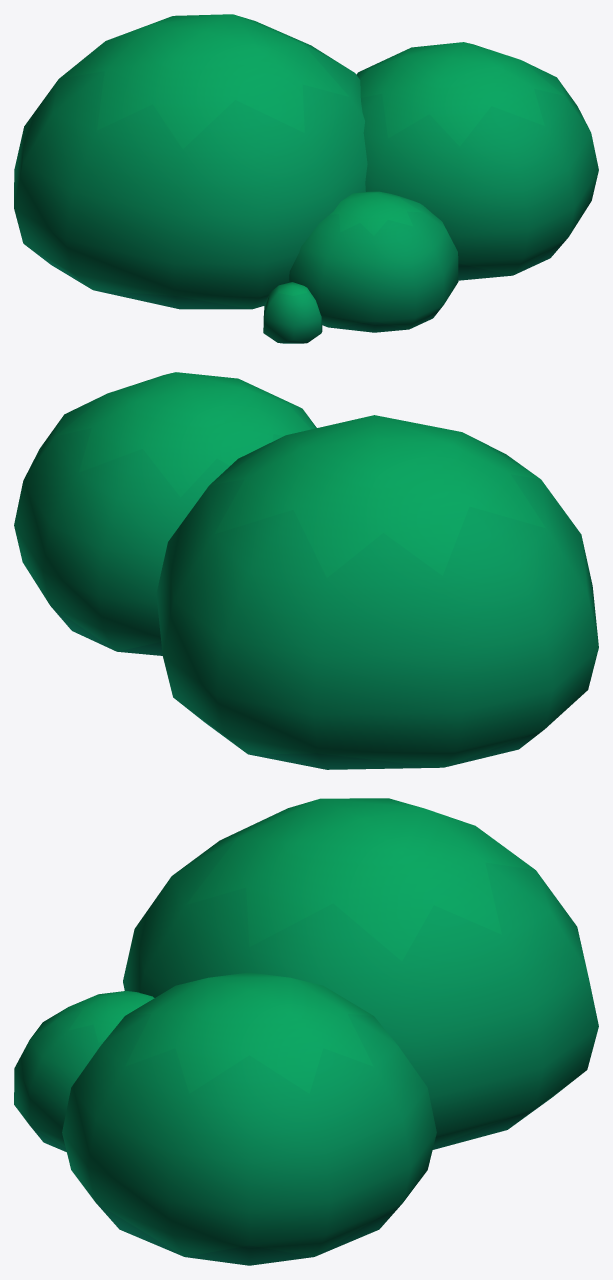
File: Bush_1_F_Color2.fbx
3 renders of one model, top to bottom at view 1: azimuth 30°, elevation 25°; view 2: azimuth 150°, elevation 25°; view 3: azimuth 270°, elevation 25°, orthographic. The views are drawn at different scales.
Visible parts, largest first — view 1: Bush_1_F_Color2; view 2: Bush_1_F_Color2; view 3: Bush_1_F_Color2.
Boxes of the visible parts, <box> form: Bush_1_F_Color2: <box>14,14,598,343</box>; Bush_1_F_Color2: <box>14,372,598,769</box>; Bush_1_F_Color2: <box>14,798,598,1265</box>.
Bounding box in the file's own units: 2.28 × 0.9937 × 1.88.
